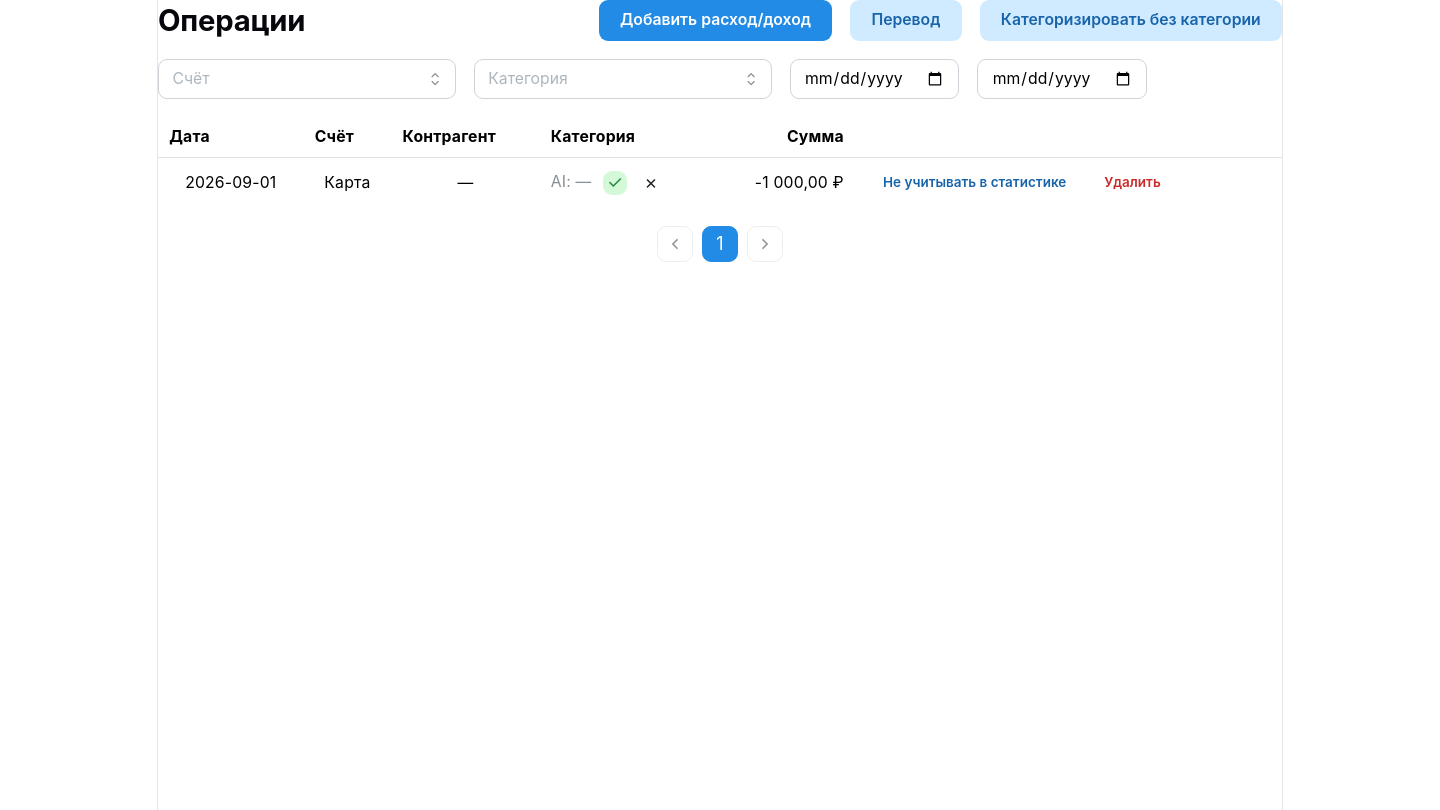
Test: о похожих операциях спрашивают, называя их число
The width and height of the screenshot is (1440, 810).
Click the button named "Подтвердить категорию": click(615, 183) [603, 170, 628, 195]
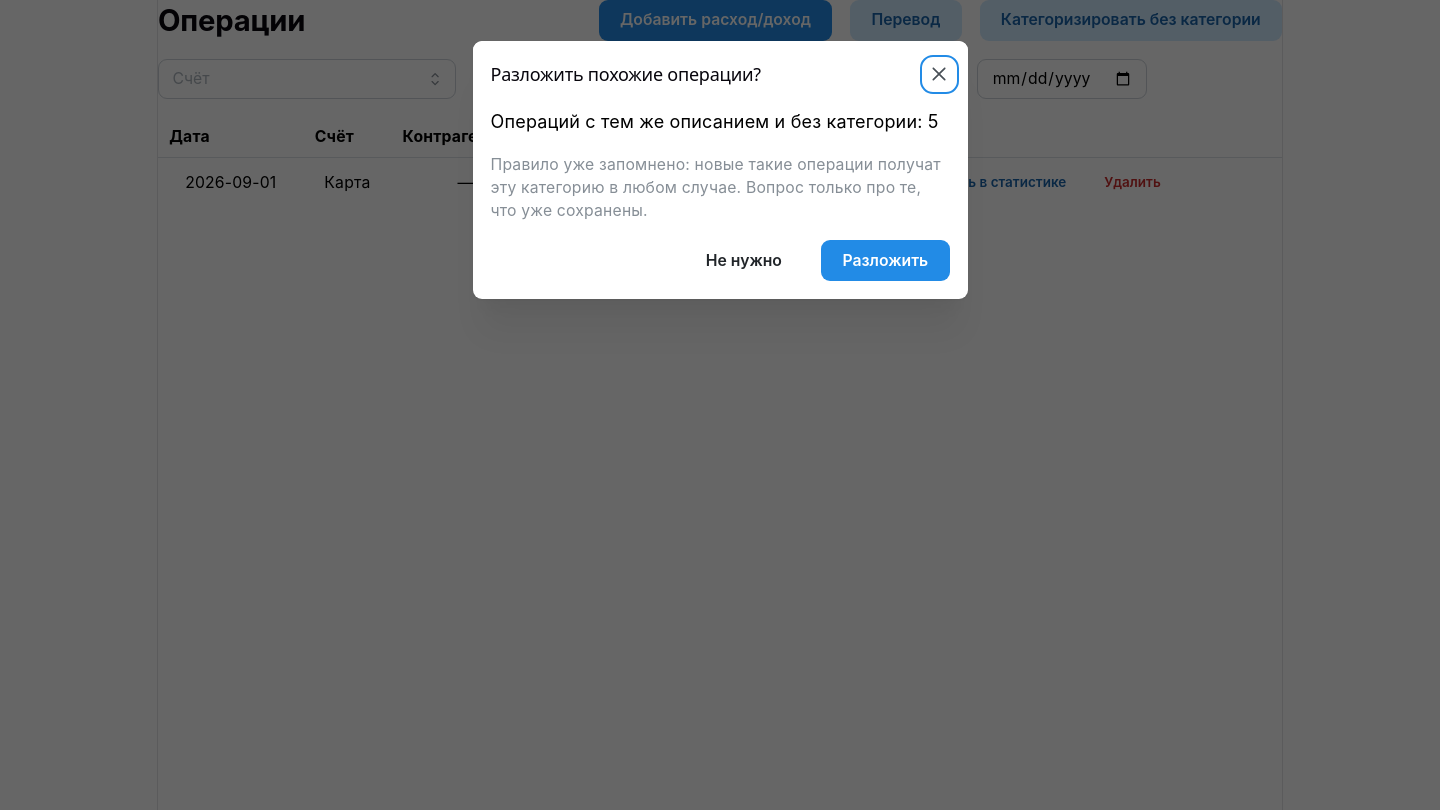
Now the text "Операций с тем же описанием и без категории: 5" is shown, box [490, 108, 950, 136]
